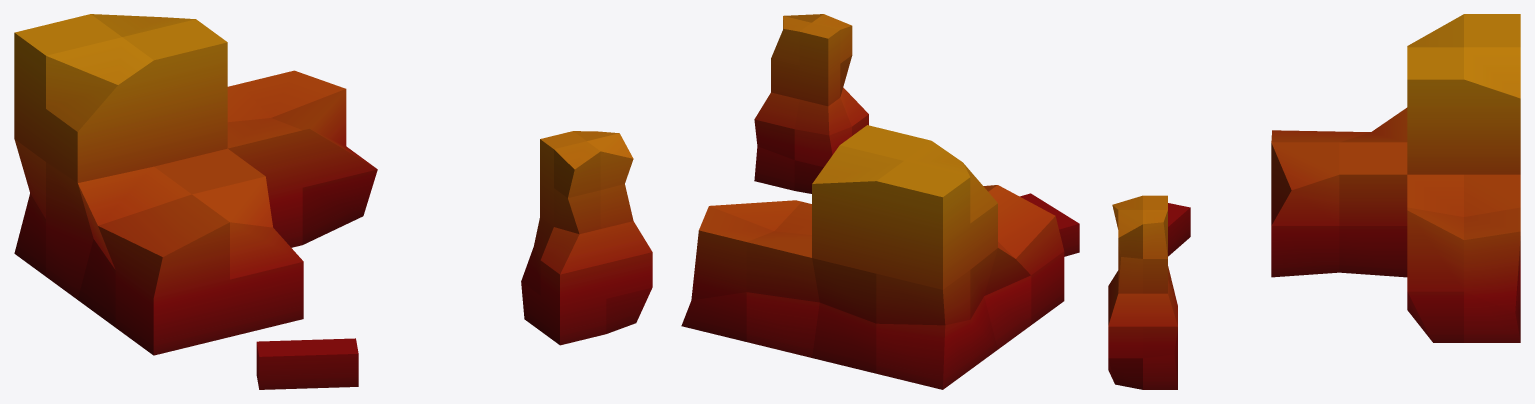
The model's file is ruins_09.fbx.
The picture shows the model from 3 angles, left to right: view 1: azimuth 30°, elevation 25°; view 2: azimuth 150°, elevation 25°; view 3: azimuth 270°, elevation 25°; orthographic projection. The views are drawn at different scales.
Parts seen in each view (by area): view 1: ruins_09; view 2: ruins_09; view 3: ruins_09.
Part boxes in pixels (<box>): ruins_09: <box>14,14,652,389</box>; ruins_09: <box>681,14,1079,389</box>; ruins_09: <box>1108,14,1520,389</box>.
Size of the model in its own units: 174 by 90.28 by 171.
